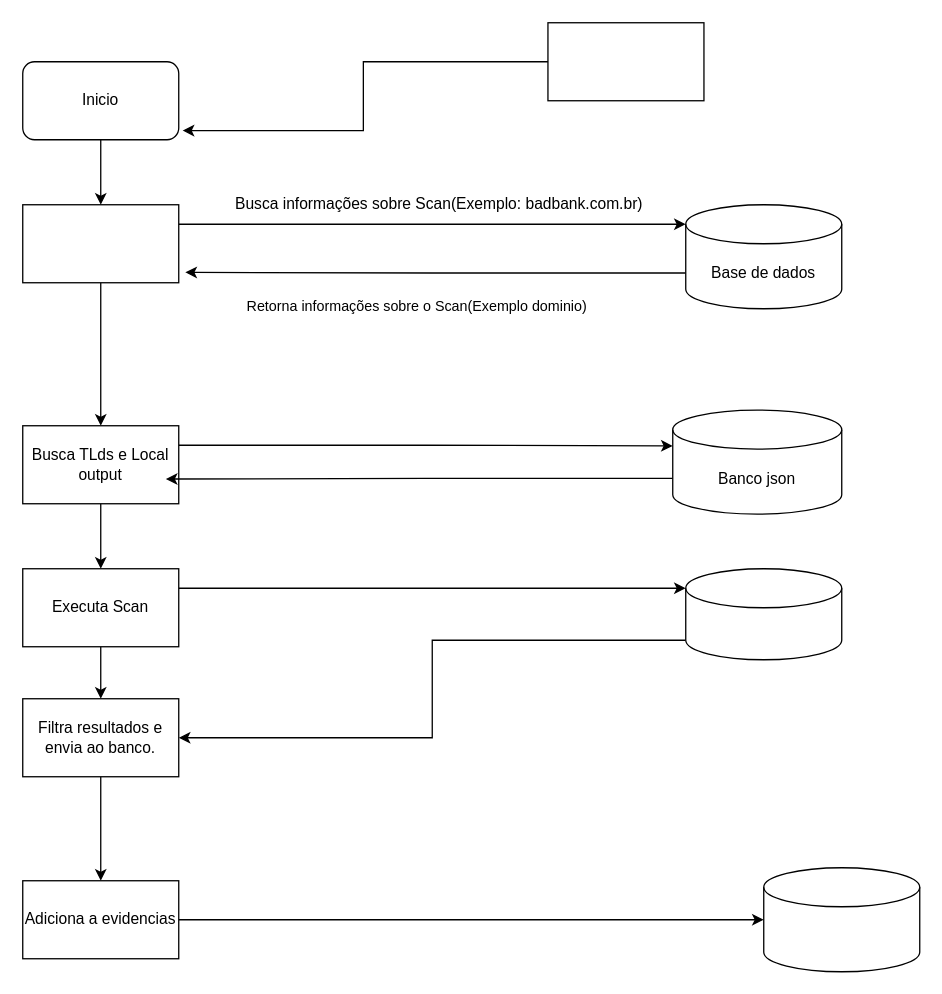
Some shapes in this 942 by 994 pixel diagram are drawn without their labels. Here are the shapes that lost their labels. From the top down, the box of each, then its label:
(547, 21, 704, 101): Cronjob - Agendamento de tarefas
(21, 203, 179, 283): Inicia Scan
(684, 567, 842, 660): banco json resultados
(762, 866, 920, 972): Banco de Ocorrencias
